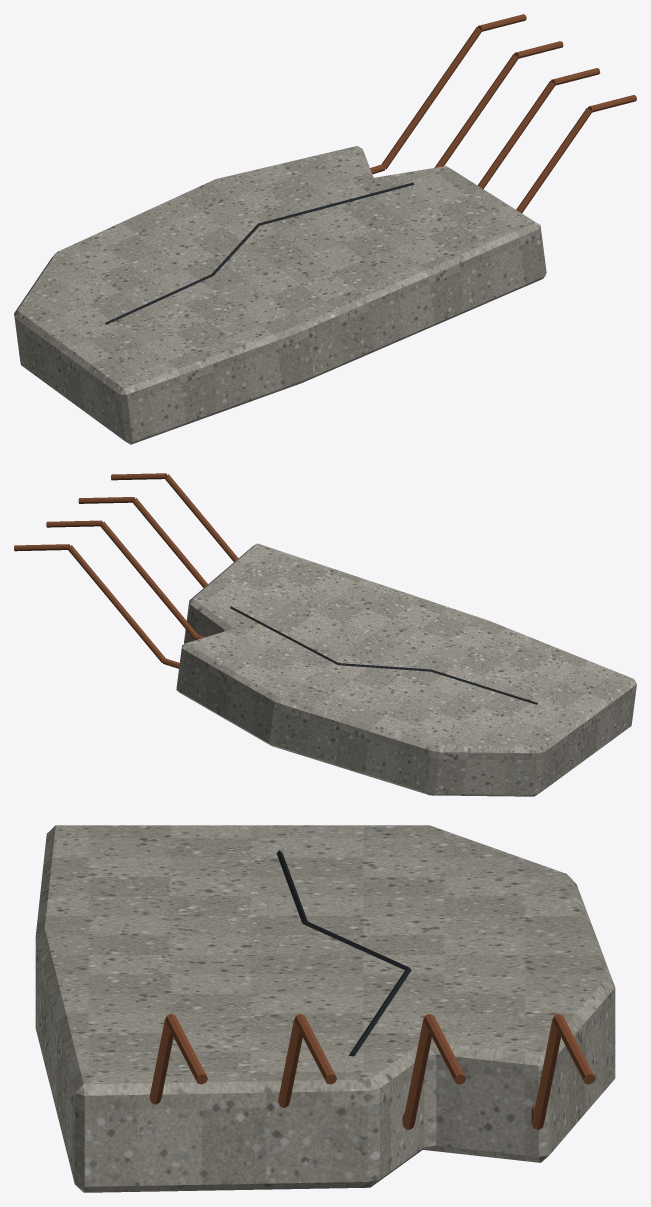
File: slab_rebar.glb
3 renders of one model, top to bottom at view 1: azimuth 30°, elevation 25°; view 2: azimuth 150°, elevation 25°; view 3: azimuth 270°, elevation 25°, orthographic. The views are drawn at different scales.
Visible parts, largest first — view 1: slab_rebar__m7_concrete, slab_rebar__m7_rusted_rebar, slab_rebar__m7_dark_polymer; view 2: slab_rebar__m7_concrete, slab_rebar__m7_rusted_rebar, slab_rebar__m7_dark_polymer; view 3: slab_rebar__m7_concrete, slab_rebar__m7_rusted_rebar, slab_rebar__m7_dark_polymer.
Part boxes in pixels (<box>): slab_rebar__m7_concrete: <box>14,146,546,444</box>; slab_rebar__m7_rusted_rebar: <box>370,14,636,213</box>; slab_rebar__m7_dark_polymer: <box>105,182,413,324</box>; slab_rebar__m7_concrete: <box>176,543,636,796</box>; slab_rebar__m7_rusted_rebar: <box>14,473,238,668</box>; slab_rebar__m7_dark_polymer: <box>230,606,537,704</box>; slab_rebar__m7_concrete: <box>35,825,615,1192</box>; slab_rebar__m7_rusted_rebar: <box>149,1013,595,1129</box>; slab_rebar__m7_dark_polymer: <box>276,850,411,1056</box>.
Bounding box in the file's own units: 2.19 × 0.7289 × 1.12.
Materials: 3 (1 with a texture image).
